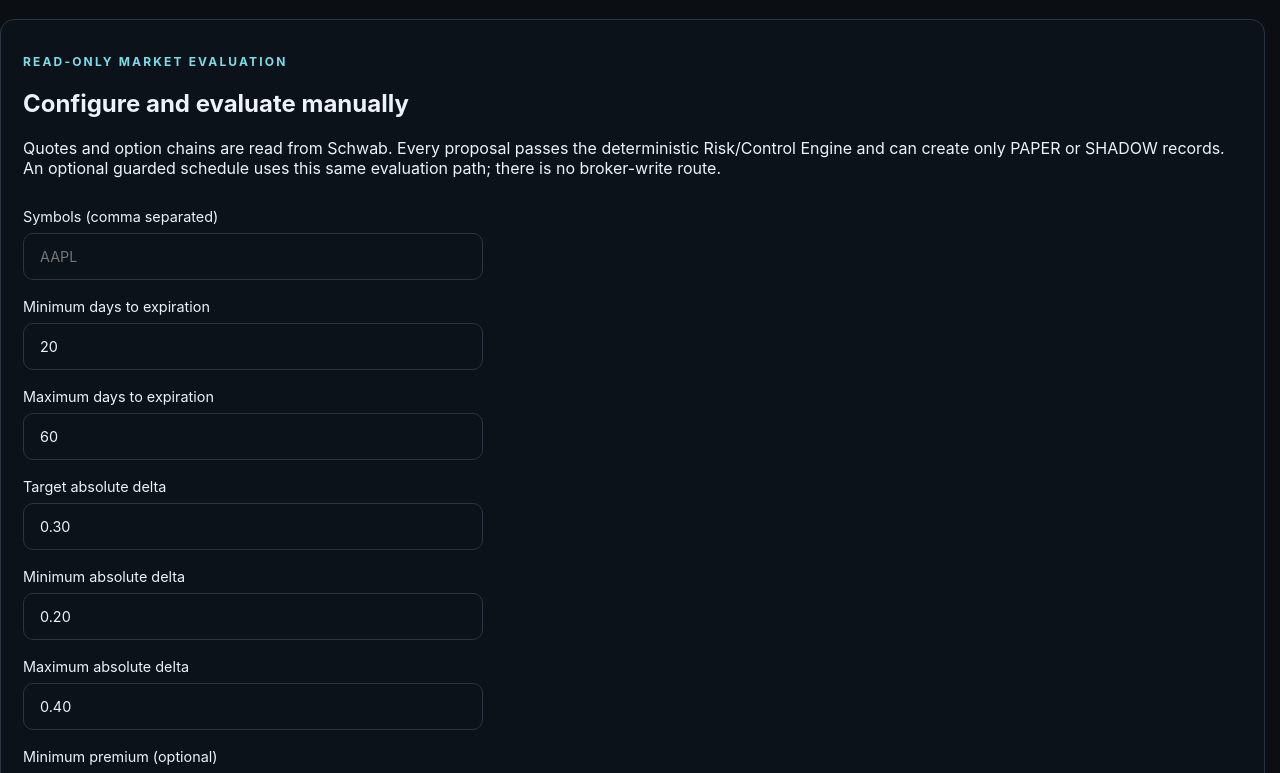
StrategyEvaluationControls › saves normalized parameters as a draft without evaluating
The width and height of the screenshot is (1280, 773).
Type " aapl " into the field labelled "Symbols (comma separated)" at (253, 256), box [23,233,483,280]
(page scrolled)
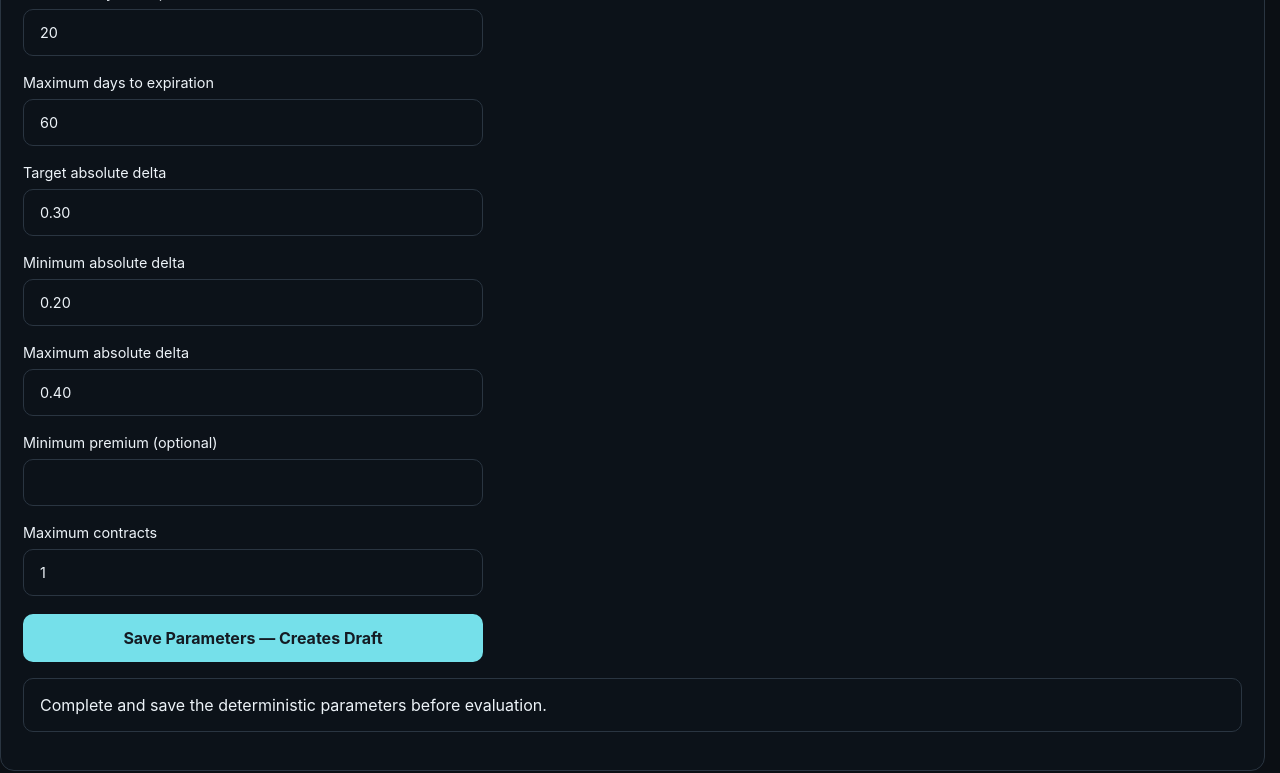
Click the button "Save Parameters — Creates Draft" at (253, 638), box [23,614,483,662]
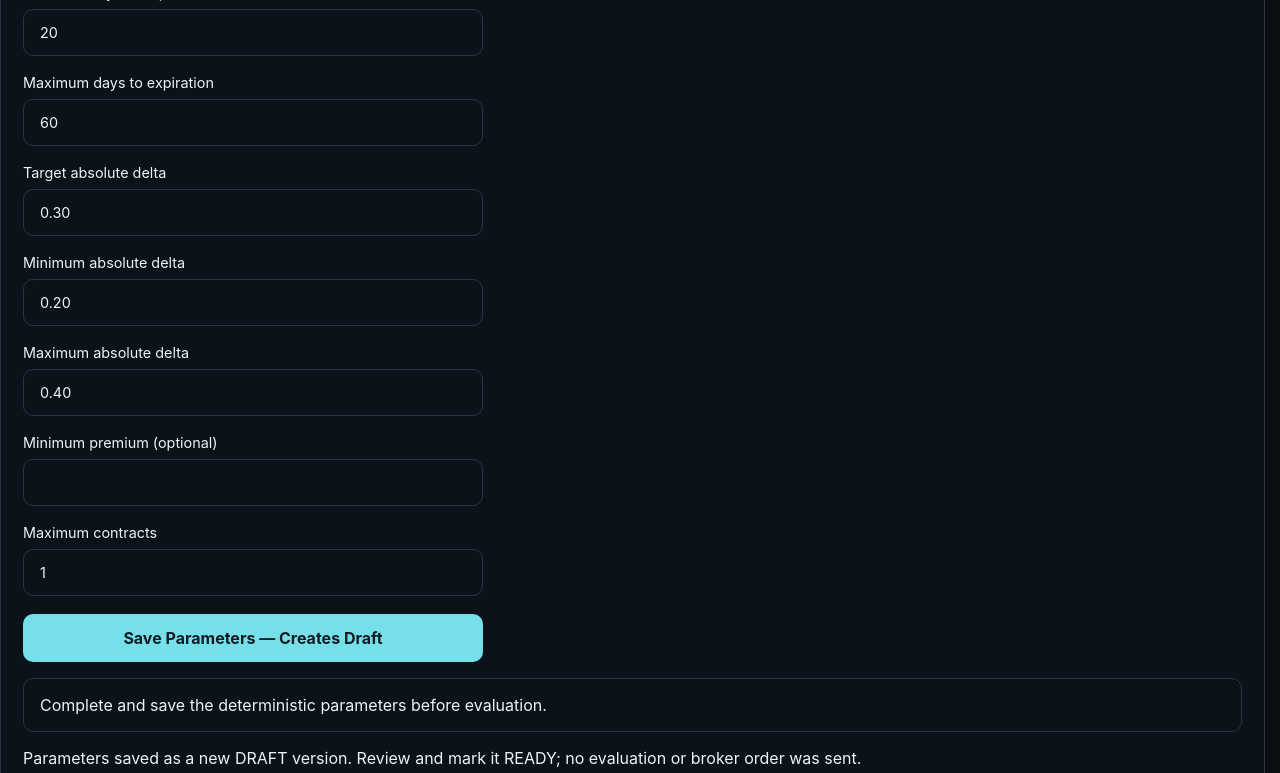
Now the text "no evaluation or broker order" is shown, box [23,748,861,768]
